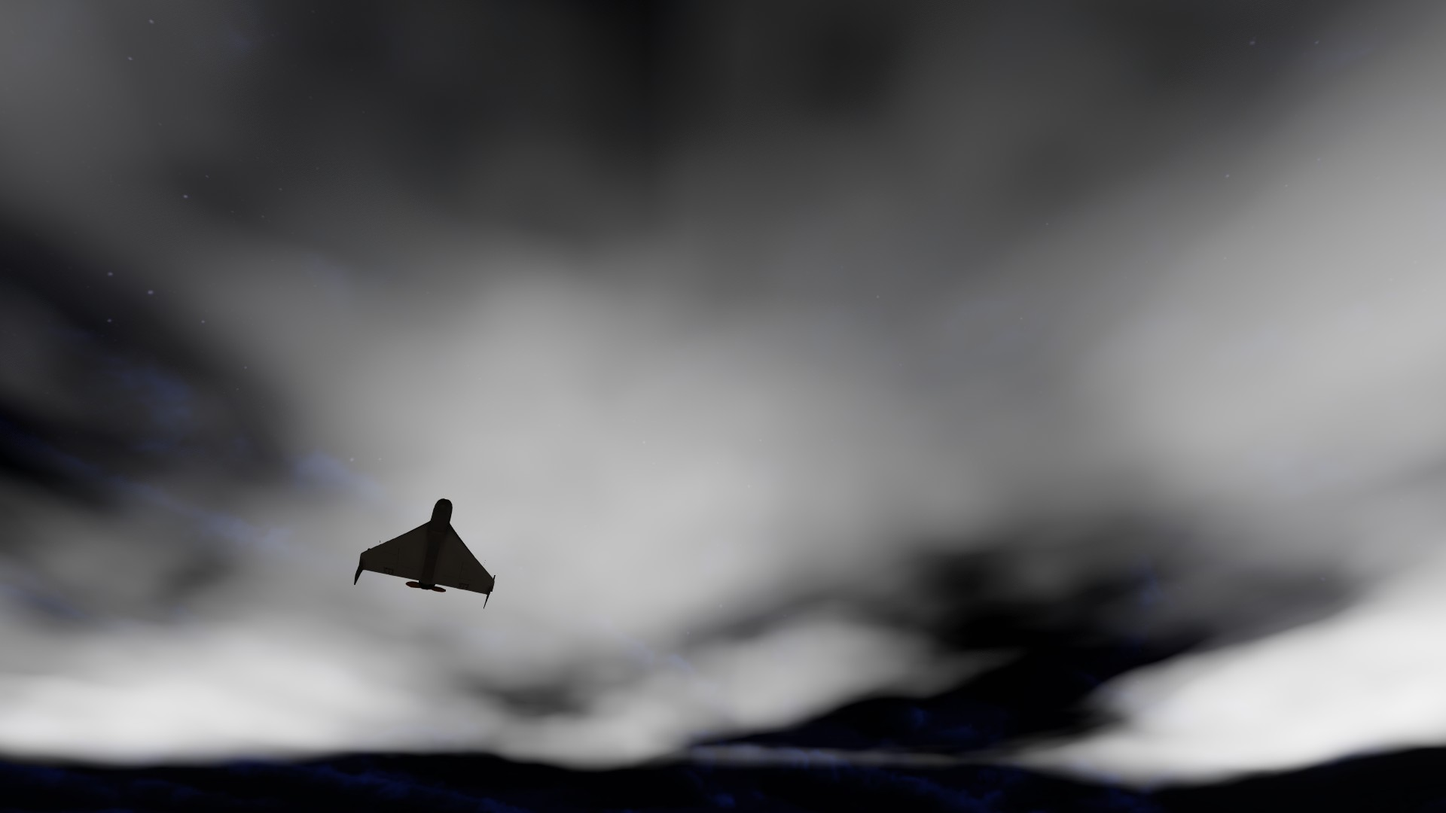shahed: (354, 498, 495, 610)
